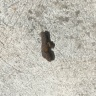Dog: (39, 31, 56, 59)
